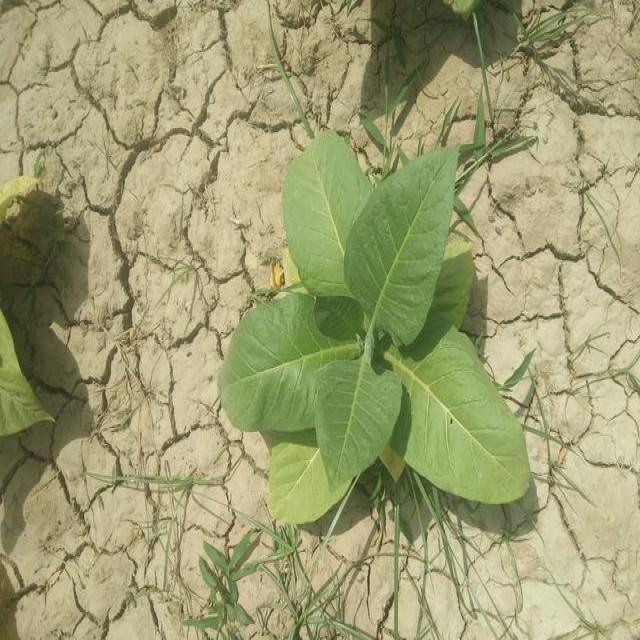crop: (226, 135, 530, 525), (0, 308, 44, 428), (438, 0, 487, 21)
